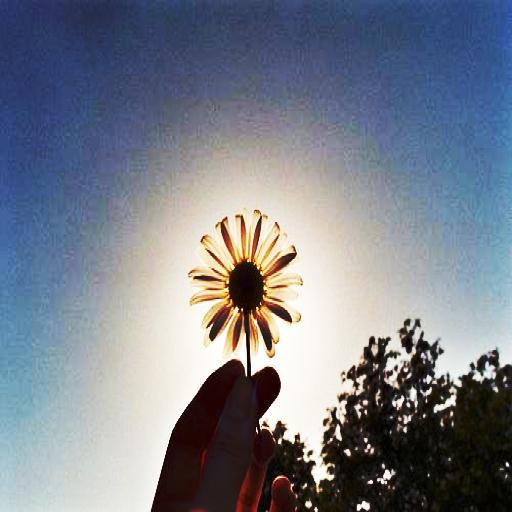daisy: (194, 214, 296, 360)
